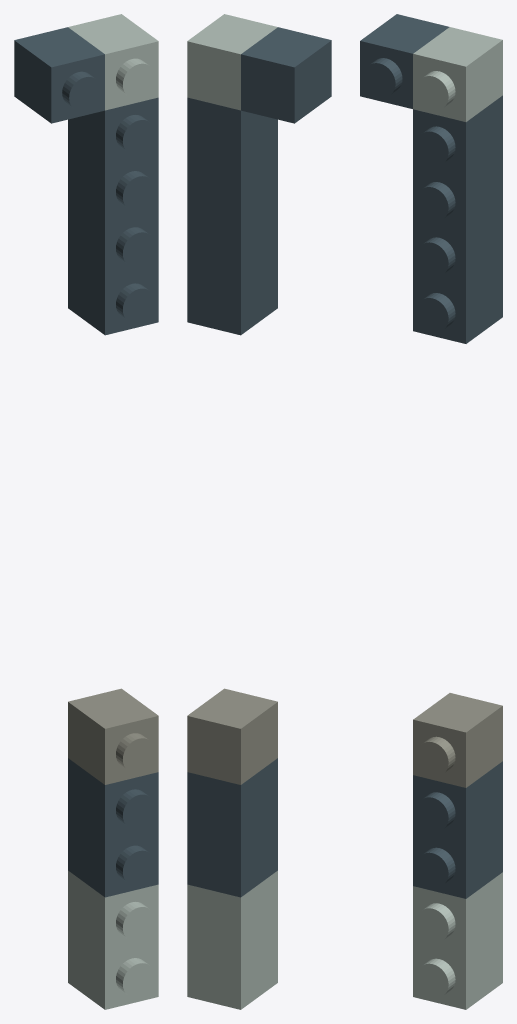
File: current.glb
3 views of the same model, side by side, from view 1: azimuth 30°, elevation 25°; view 2: azimuth 150°, elevation 25°; view 3: azimuth 330°, elevation 25° (orthographic).
Visible parts, largest first — view 1: world; view 2: world; view 3: world.
Boxes of the visible parts, <box> form: world: <box>14,14,158,1009</box>; world: <box>187,14,331,1009</box>; world: <box>360,14,502,1009</box>.
Bounding box in the file's own units: 16 × 136 × 11.4.
